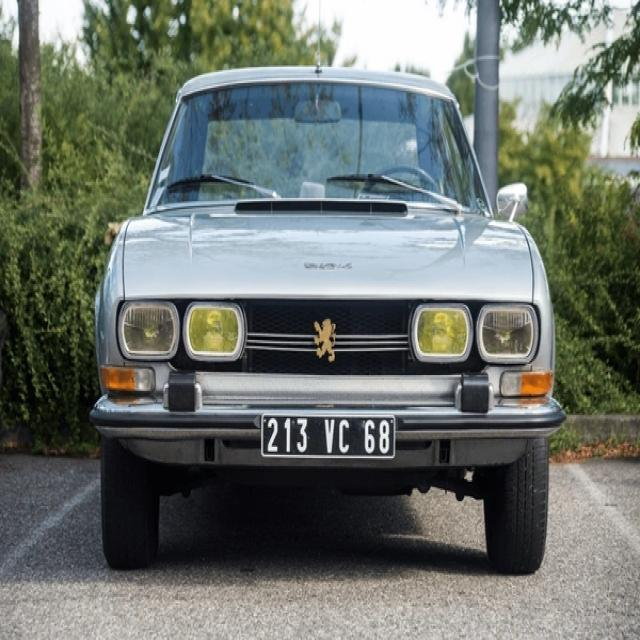pegout: (308, 312, 340, 366)
